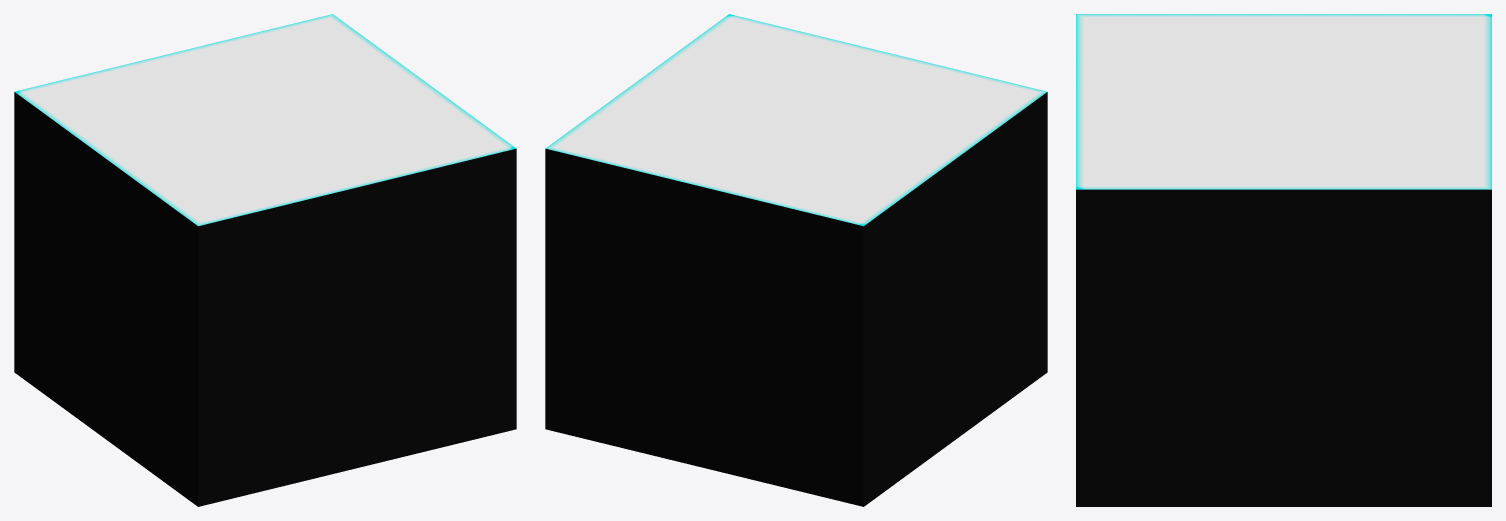
Rendered from OceanVolume.FBX.
3 renders of one model, left to right at view 1: azimuth 30°, elevation 25°; view 2: azimuth 150°, elevation 25°; view 3: azimuth 270°, elevation 25°, orthographic. The views are drawn at different scales.
Parts seen in each view (by area): view 1: OceanVolume; view 2: OceanVolume; view 3: OceanVolume.
Boxes of the visible parts, box(x1,y1,x2,y2) form: OceanVolume: box(14, 14, 516, 506); OceanVolume: box(545, 14, 1047, 506); OceanVolume: box(1076, 14, 1491, 506).
Bounding box in the file's own units: 100 × 100 × 84.21.
